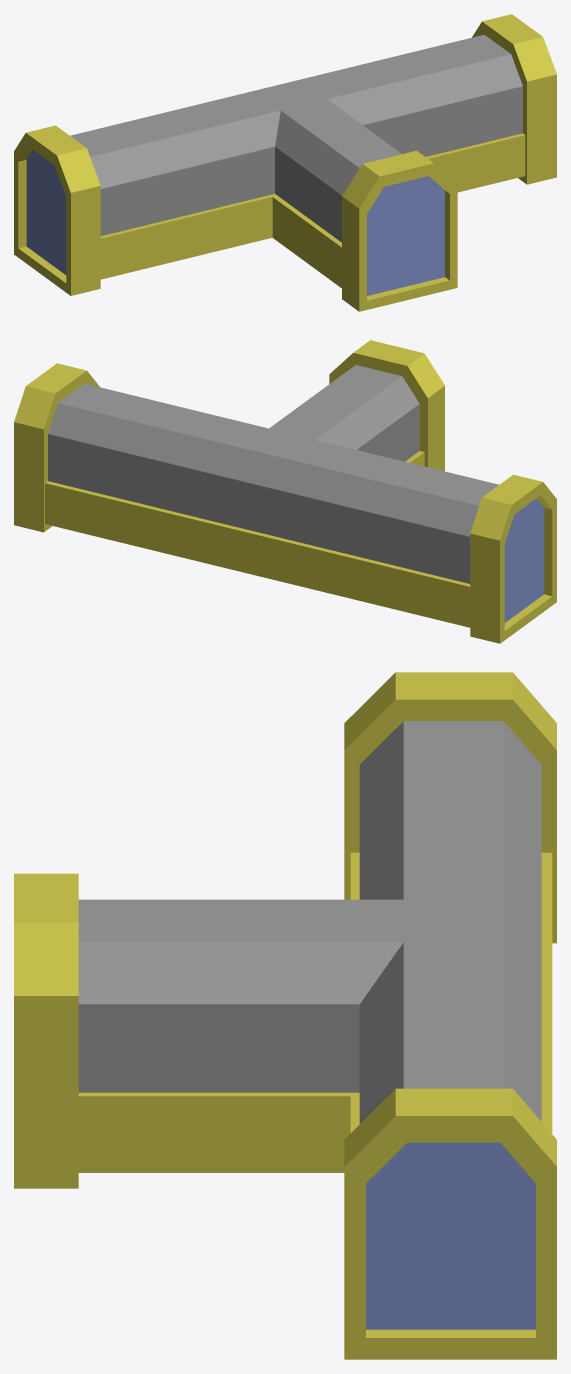
The model's file is fragment 02 02.fbx.
The picture shows the model from 3 angles, top to bottom: view 1: azimuth 30°, elevation 25°; view 2: azimuth 150°, elevation 25°; view 3: azimuth 270°, elevation 25°; orthographic projection. The views are drawn at different scales.
Parts seen in each view (by area): view 1: Cube, Cube.004, Cube.003, Cube.001, Cube.002; view 2: Cube, Cube.001, Cube.003, Cube.002, Cube.004; view 3: Cube.003, Cube, Cube.002, Cube.004, Cube.001.
Boxes of the visible parts, bbox=[...] form: Cube: bbox=[70, 34, 525, 279]; Cube.004: bbox=[342, 150, 457, 311]; Cube.003: bbox=[272, 98, 401, 288]; Cube.001: bbox=[14, 125, 100, 295]; Cube.002: bbox=[472, 14, 556, 184]; Cube: bbox=[45, 383, 498, 627]; Cube.001: bbox=[470, 474, 556, 643]; Cube.003: bbox=[268, 365, 424, 466]; Cube.002: bbox=[14, 363, 99, 532]; Cube.004: bbox=[329, 340, 444, 471]; Cube.003: bbox=[78, 899, 407, 1172]; Cube: bbox=[350, 721, 552, 1133]; Cube.002: bbox=[344, 1088, 556, 1359]; Cube.004: bbox=[14, 873, 78, 1188]; Cube.001: bbox=[344, 672, 556, 943].
Size of the model in its own units: 1155 by 296 by 598.
